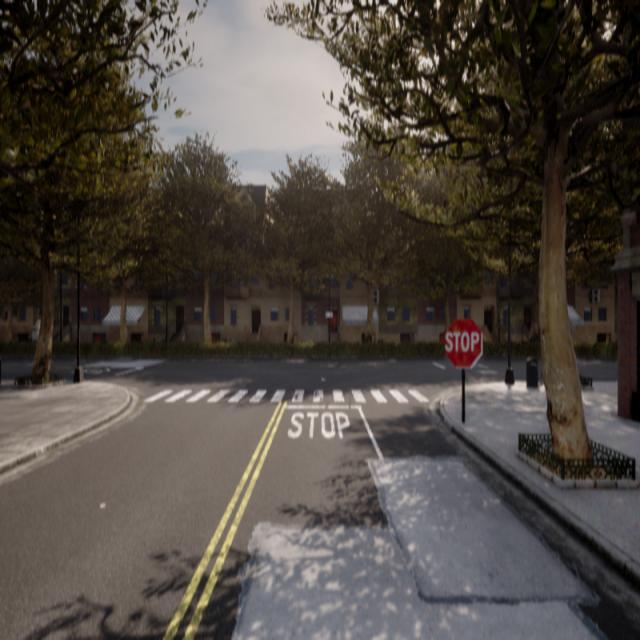stop sign: (441, 315, 484, 370)
